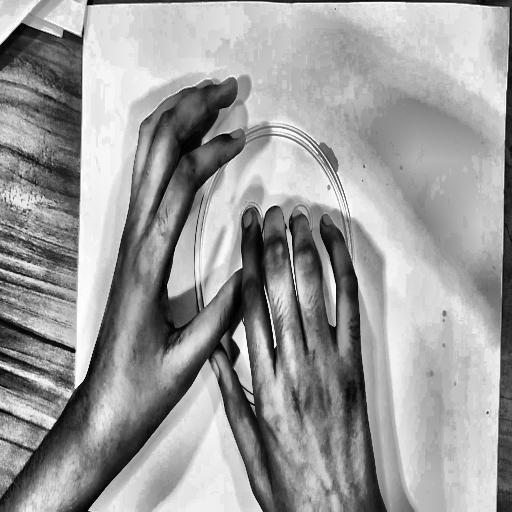button: (186, 116, 366, 426)
top_left: (81, 5, 86, 14)
top_right: (506, 3, 512, 14)
